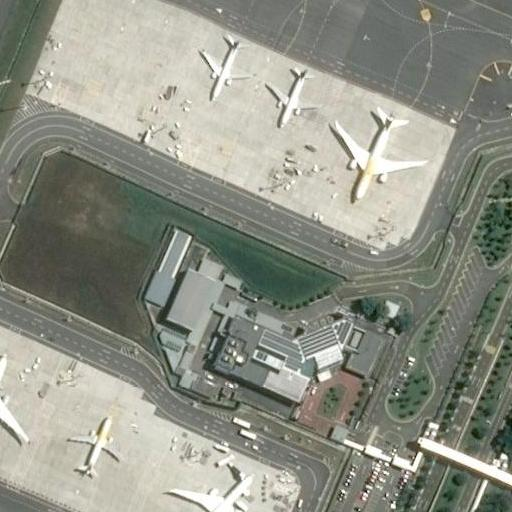Aircraft: (330, 98, 429, 206), (161, 460, 259, 512), (67, 410, 126, 479), (196, 29, 247, 103), (265, 59, 313, 129), (0, 350, 26, 464)
